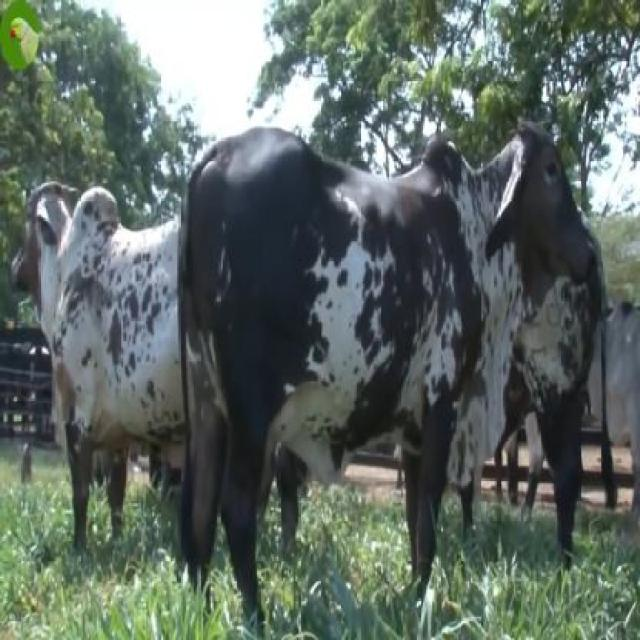Cow: (178, 110, 596, 638)
